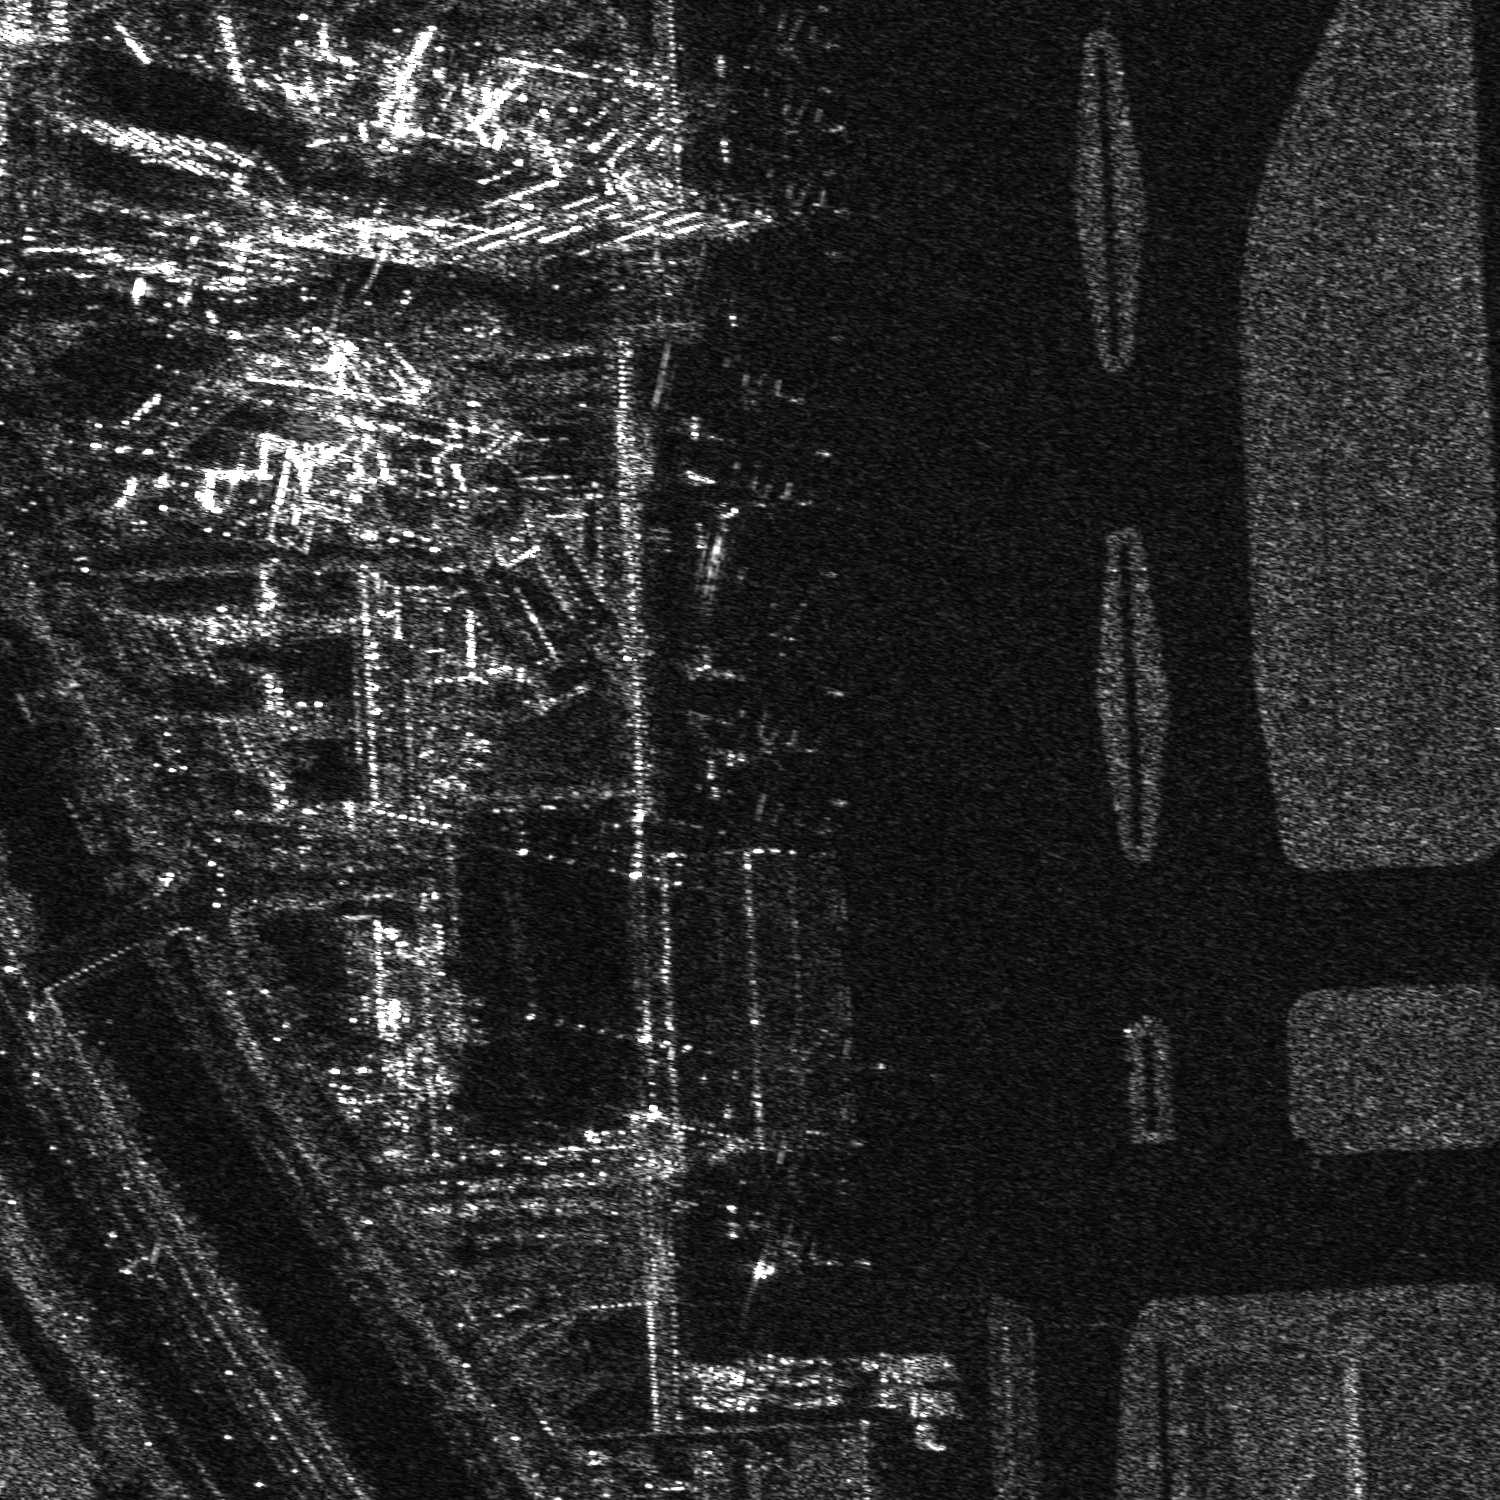A220: (749, 12, 849, 85), (786, 185, 883, 260), (775, 98, 859, 176), (721, 473, 819, 538), (728, 716, 821, 782)
